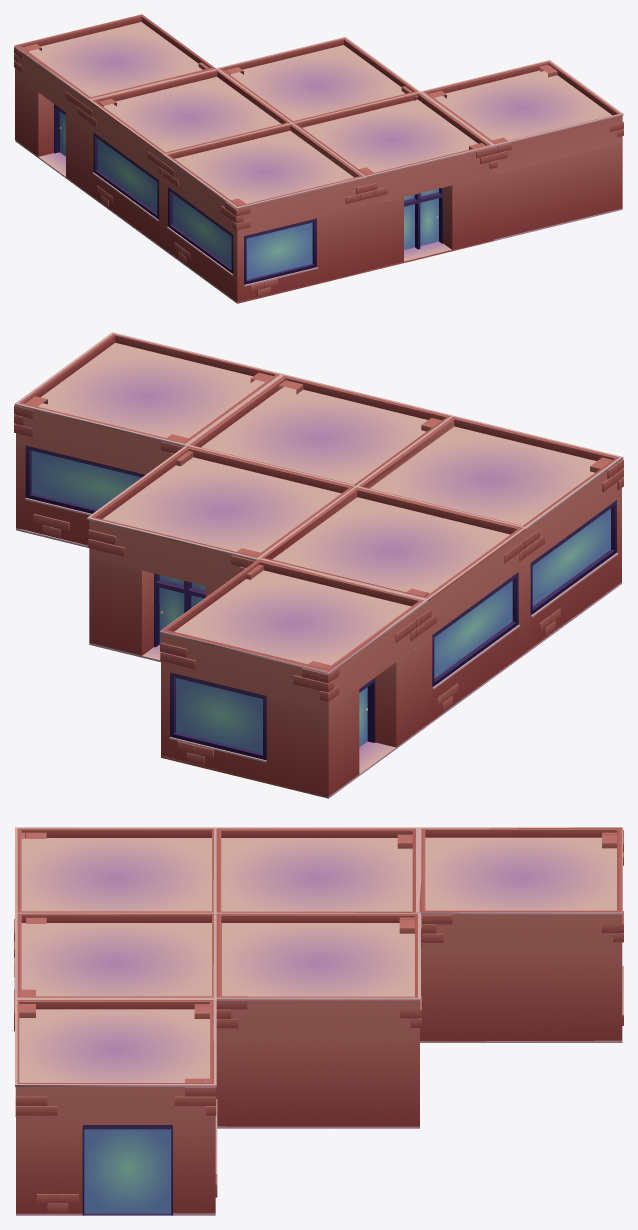
File: SM_PublicBathroom_02.fbx
3 renders of one model, top to bottom at view 1: azimuth 30°, elevation 25°; view 2: azimuth 150°, elevation 25°; view 3: azimuth 270°, elevation 25°, orthographic. The views are drawn at different scales.
Parts seen in each view (by area): view 1: SM_PublicBathroom_02; view 2: SM_PublicBathroom_02; view 3: SM_PublicBathroom_02.
Boxes of the visible parts, bbox=[...] form: SM_PublicBathroom_02: bbox=[14, 14, 623, 303]; SM_PublicBathroom_02: bbox=[14, 332, 623, 798]; SM_PublicBathroom_02: bbox=[14, 827, 623, 1215].
Size of the model in its own units: 19.1 by 19.07 by 4.52.
